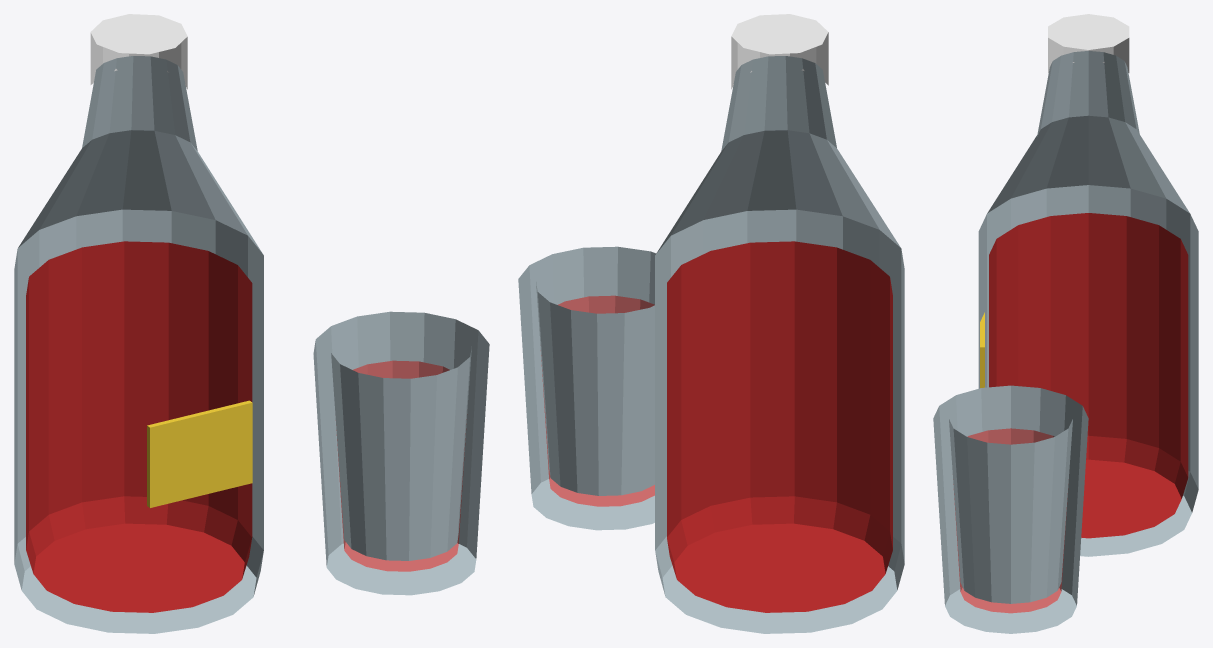
Rendered from saft.glb.
3 renders of one model, left to right at view 1: azimuth 30°, elevation 25°; view 2: azimuth 150°, elevation 25°; view 3: azimuth 270°, elevation 25°, orthographic. The views are drawn at different scales.
Parts seen in each view (by area): view 1: saft; view 2: saft; view 3: saft.
Part boxes in pixels (x1,y1,x2,y2): saft: [14, 14, 489, 633]; saft: [518, 14, 904, 633]; saft: [933, 14, 1198, 633].
Size of the model in its own units: 0.315 by 0.41 by 0.205.
